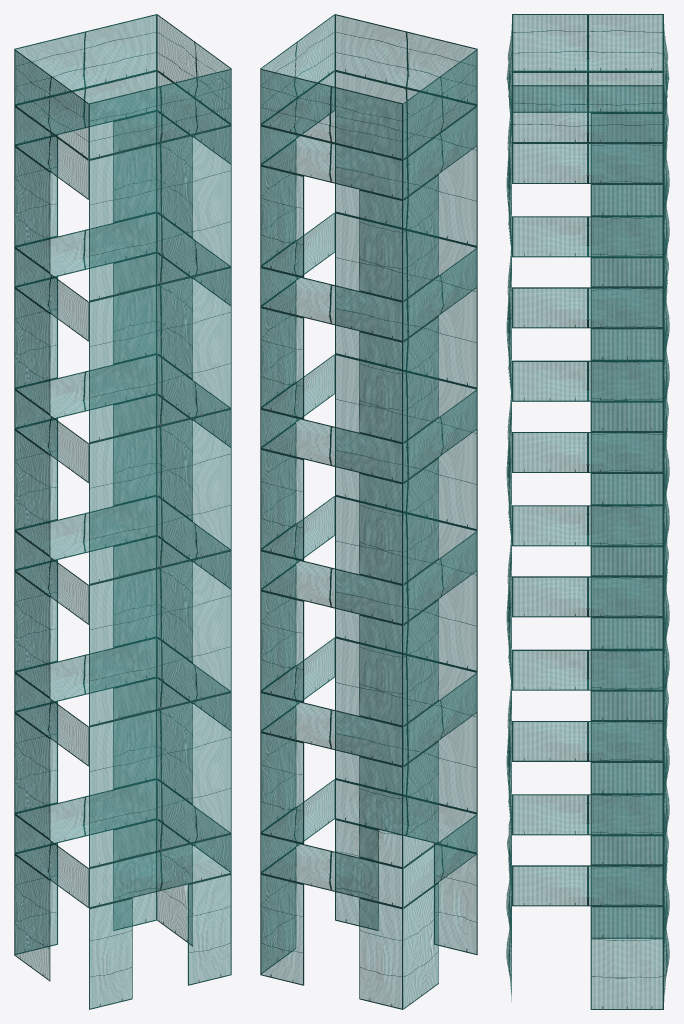
File: Netted.glb
The picture shows the model from 3 angles, left to right: view 1: azimuth 30°, elevation 25°; view 2: azimuth 150°, elevation 25°; view 3: azimuth 270°, elevation 25°; orthographic projection. The views are drawn at different scales.
Visible parts, largest first — view 1: Netted access tower cover; view 2: Netted access tower cover; view 3: Netted access tower cover.
Part boxes in pixels (x1=…): Netted access tower cover: x1=14, y1=14, x2=231, y2=1009; Netted access tower cover: x1=260, y1=14, x2=477, y2=1009; Netted access tower cover: x1=506, y1=14, x2=669, y2=1009.
Bounding box in the file's own units: 3.38 × 19.2 × 3.07.
Materials: 3 (1 with a texture image).
